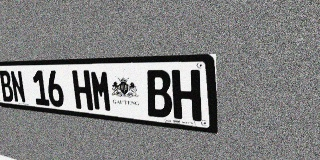1: (31, 70, 50, 106)
6: (45, 70, 65, 107)
B: (145, 70, 173, 118), (0, 71, 14, 102)
H: (171, 70, 202, 121), (72, 70, 93, 110)
M: (90, 70, 113, 112)
N: (10, 70, 26, 104)
